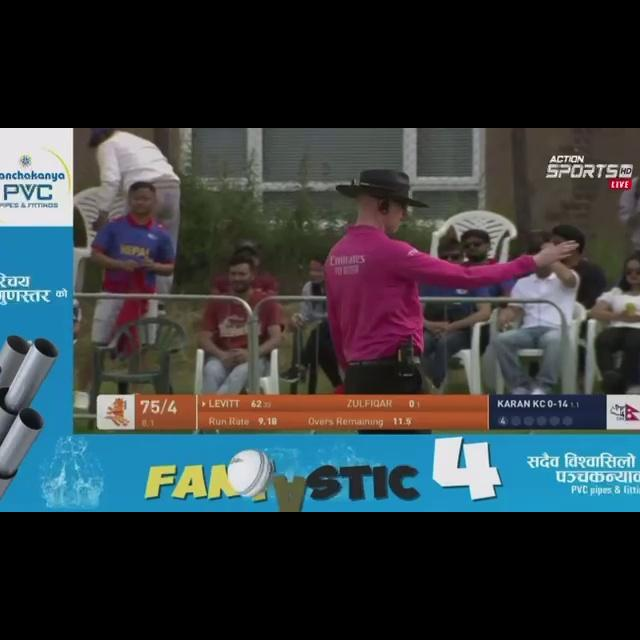umpire: (254, 146, 596, 370)
